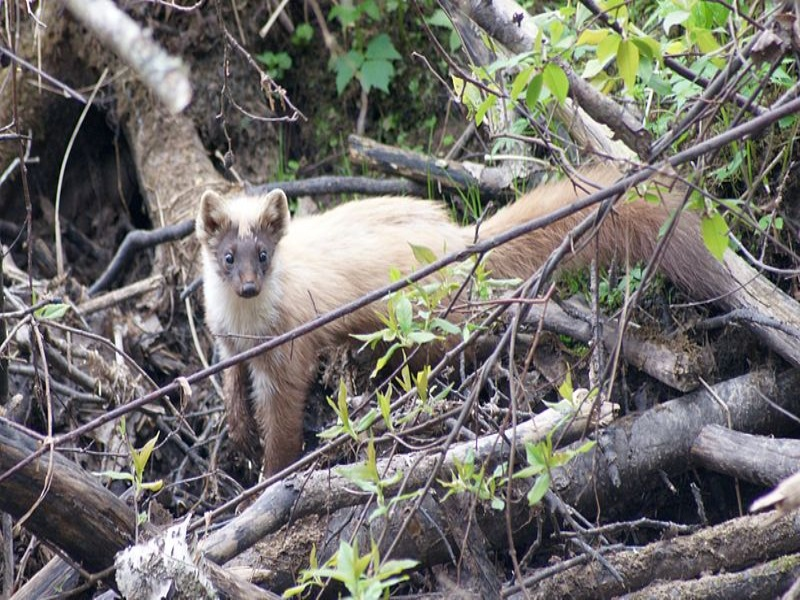minkish: (192, 169, 690, 502)
